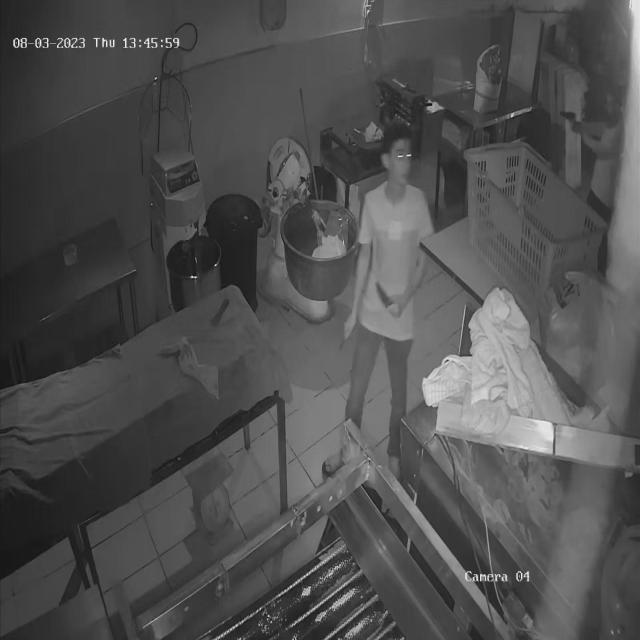Knife: (365, 267, 408, 321)
